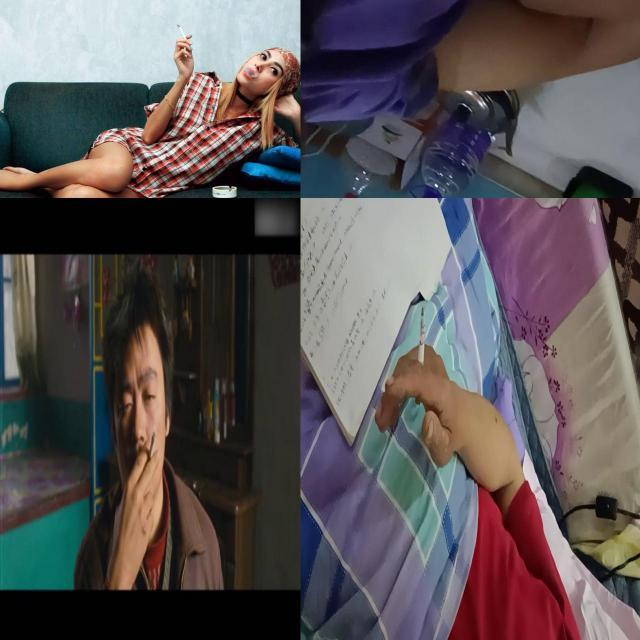smoke: (415, 308, 425, 407), (147, 428, 159, 470), (176, 22, 190, 46)
